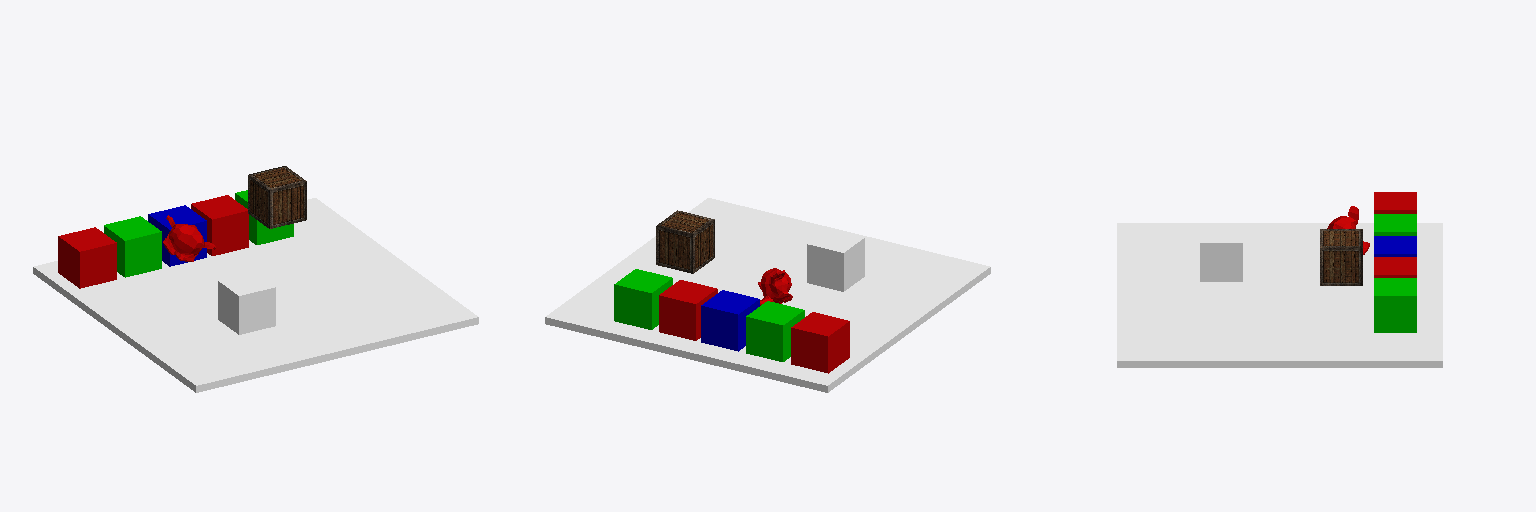
3 views of the same model, side by side, from view 1: azimuth 30°, elevation 25°; view 2: azimuth 150°, elevation 25°; view 3: azimuth 270°, elevation 25° (orthographic).
Visible parts, largest first — view 1: Cube.002, Cube.003, Cube.001, Cube, Cube.004, Cube.006, Cube.005, Suzanne, Cube.007; view 2: Cube.002, Cube.003, Cube.001, Cube, Cube.004, Cube.005, Cube.007, Cube.006, Suzanne; view 3: Cube.002, Cube.001, Cube.003, Cube.007, Cube, Cube.004, Cube.005, Cube.006.
Part boxes in pixels (left/top/right/bottom): Cube.002: left=33, top=198, right=478, bottom=392; Cube.003: left=248, top=166, right=306, bottom=228; Cube.001: left=218, top=271, right=275, bottom=334; Cube: left=58, top=227, right=116, bottom=288; Cube.004: left=104, top=216, right=161, bottom=277; Cube.006: left=191, top=195, right=248, bottom=255; Cube.005: left=148, top=205, right=206, bottom=266; Suzanne: left=163, top=215, right=215, bottom=261; Cube.007: left=235, top=190, right=293, bottom=244; Cube.002: left=545, top=198, right=990, bottom=392; Cube.003: left=656, top=210, right=714, bottom=273; Cube.001: left=807, top=228, right=864, bottom=291; Cube: left=791, top=312, right=849, bottom=373; Cube.004: left=746, top=301, right=804, bottom=361; Cube.005: left=701, top=290, right=759, bottom=351; Cube.007: left=614, top=269, right=672, bottom=329; Cube.006: left=659, top=280, right=717, bottom=340; Suzanne: left=758, top=268, right=792, bottom=305; Cube.002: left=1117, top=223, right=1442, bottom=367; Cube.001: left=1200, top=225, right=1242, bottom=281; Cube.003: left=1320, top=229, right=1362, bottom=285; Cube.007: left=1374, top=278, right=1416, bottom=332; Cube: left=1374, top=192, right=1416, bottom=213; Cube.004: left=1374, top=214, right=1416, bottom=235; Cube.005: left=1374, top=236, right=1416, bottom=256; Cube.006: left=1374, top=257, right=1416, bottom=277.
Size of the model in its own units: 15.18 by 4.41 by 15.18.
Materials: 5 (1 with a texture image).